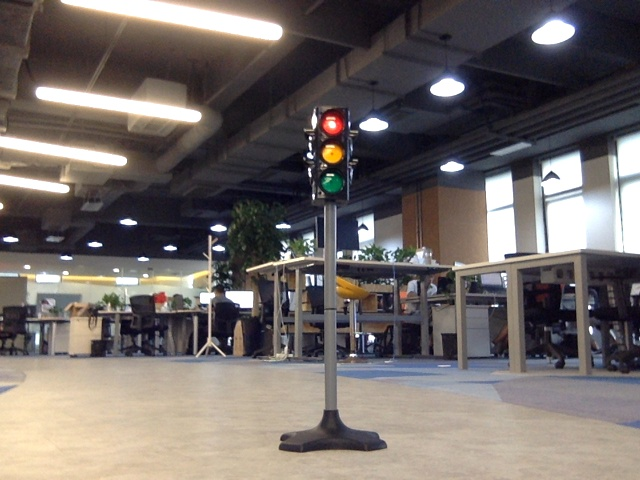red: (315, 109, 346, 196)
